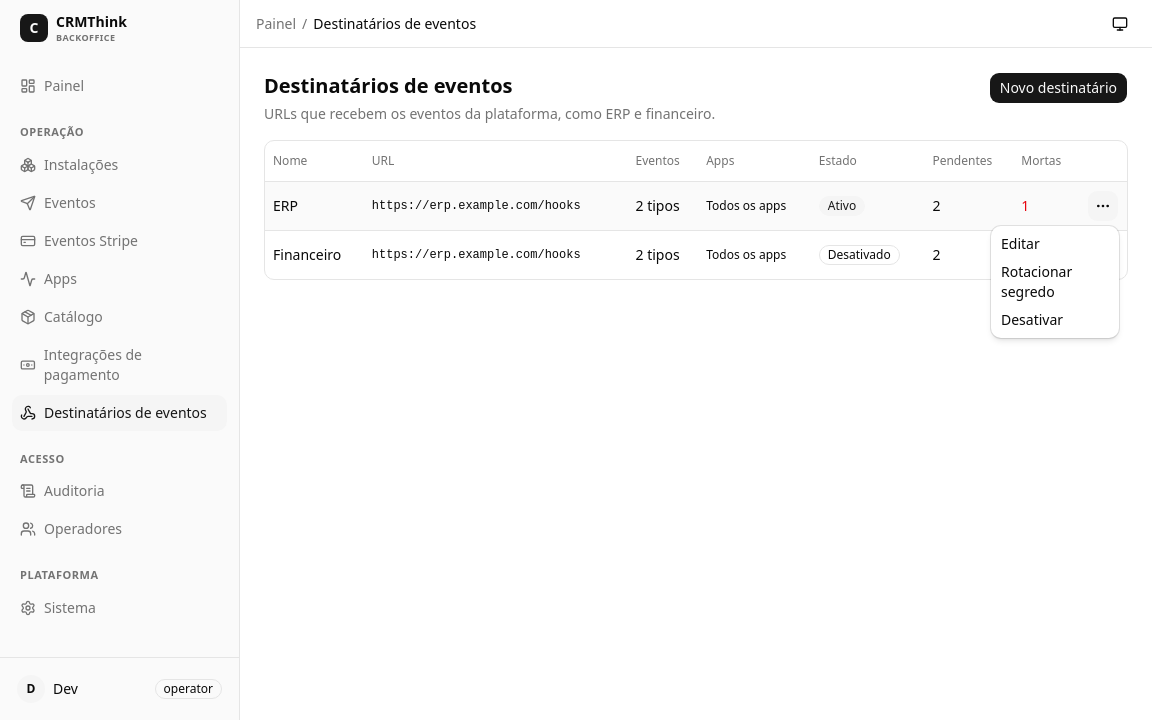
Scenario: tela Destinatários de eventos › desativar exige o motivo; reativar não
Earlier steps of the test are not shown.
Click the menu item "Desativar" at (1032, 320), box [1001,310,1063,329]
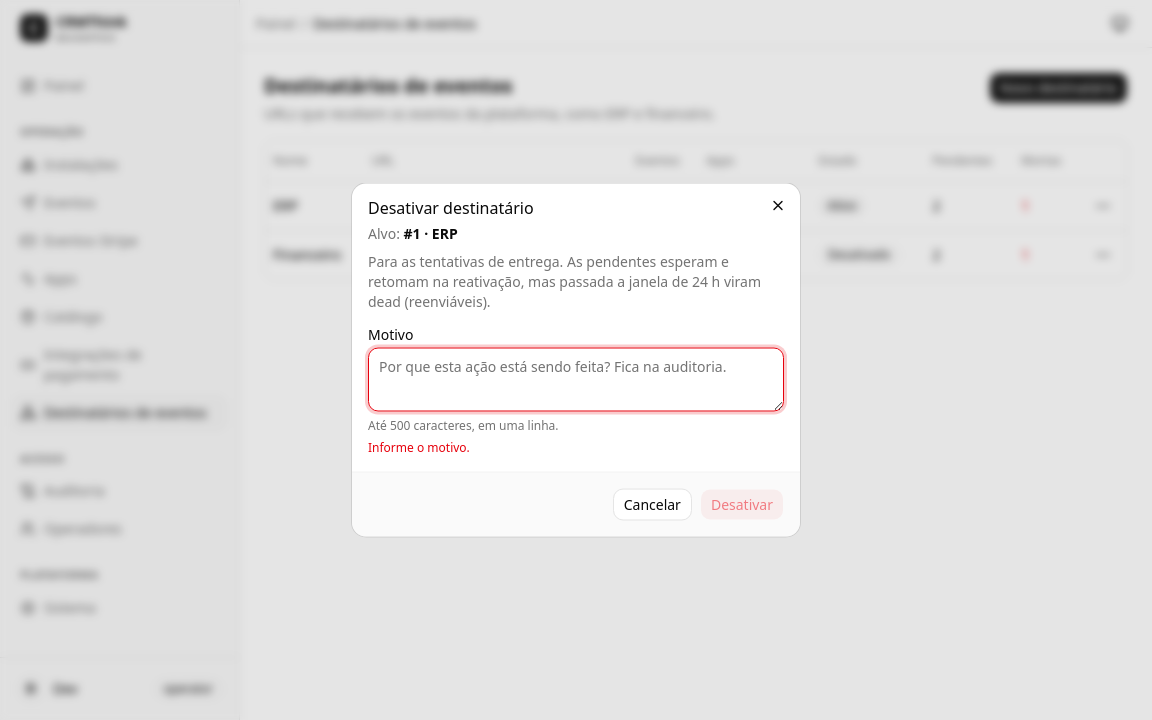
Expected: the button "Desativar" is disabled, [700,488,784,520]
Type "integracao do erp combinada com o financeiro" into the text box labelled "Motivo" at (576, 380), box [368,348,784,412]
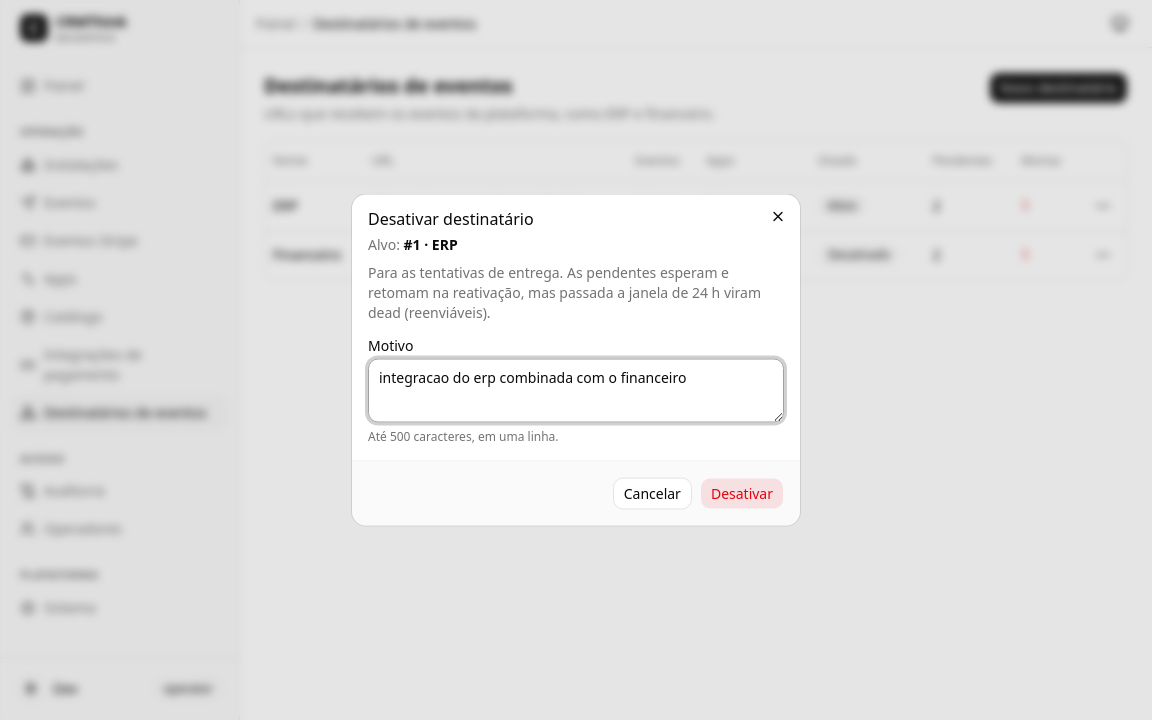
Click the button "Desativar" at (742, 494), box [700,478,784,510]
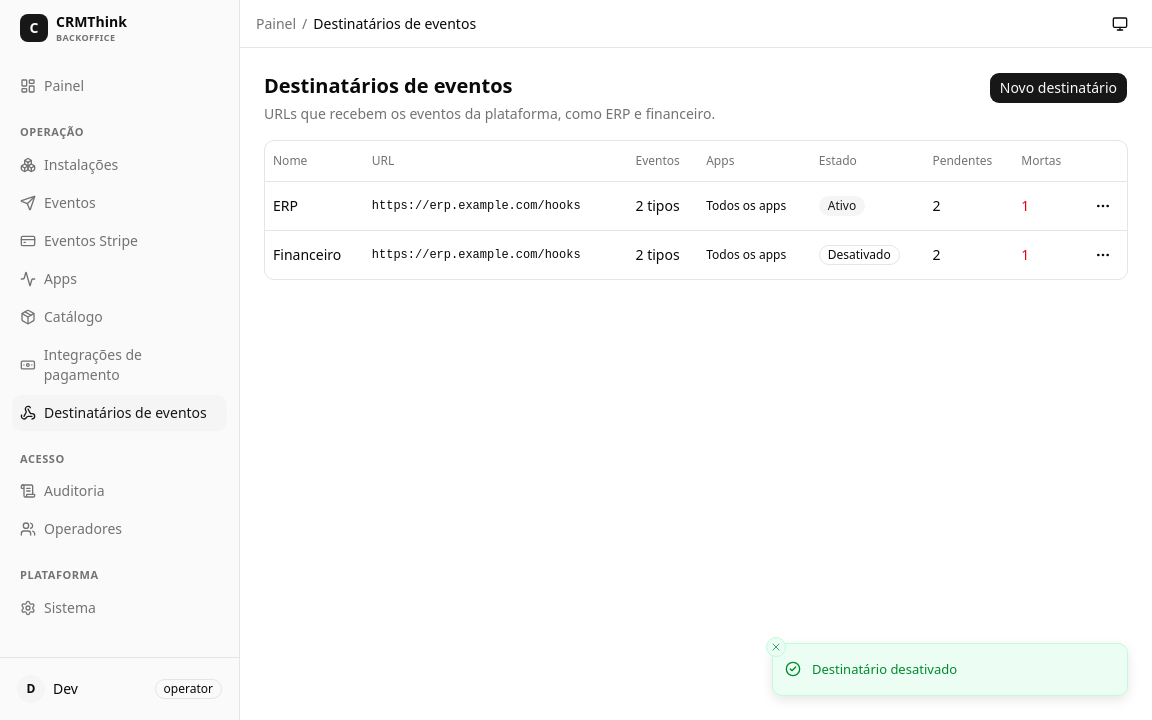
Expected: the text "Destinatário desativado" is shown, [812,660,957,679]
Expected: the dialog is gone
Click the button named "Ações de Financeiro" at (1103, 254), box [1087,238,1119,270]
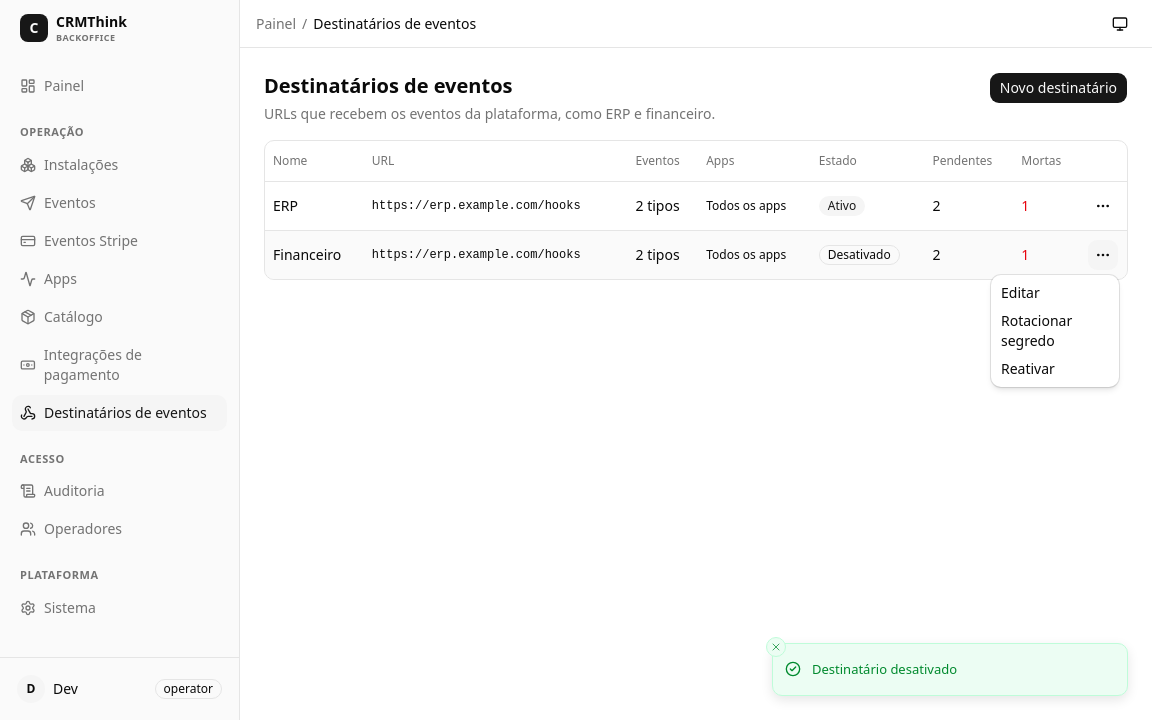
Click the menu item "Reativar" at (1028, 368), box [1001,359,1055,378]
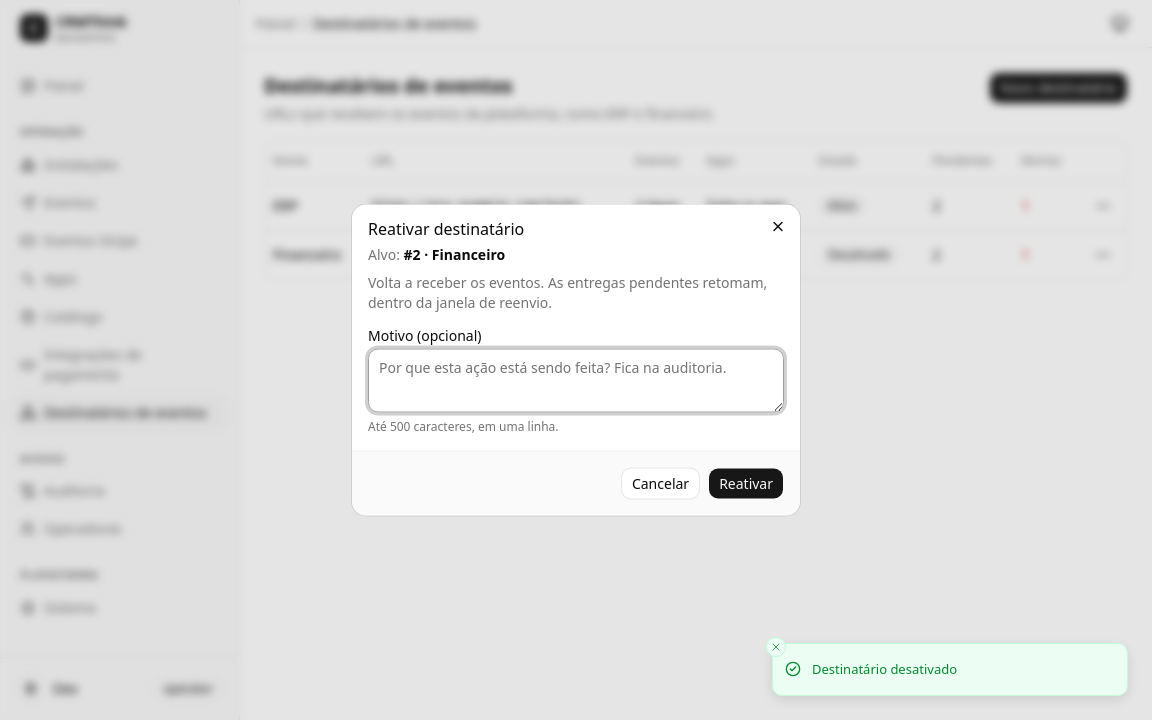
Click the button "Reativar" at (746, 484), box [708,468,784,500]
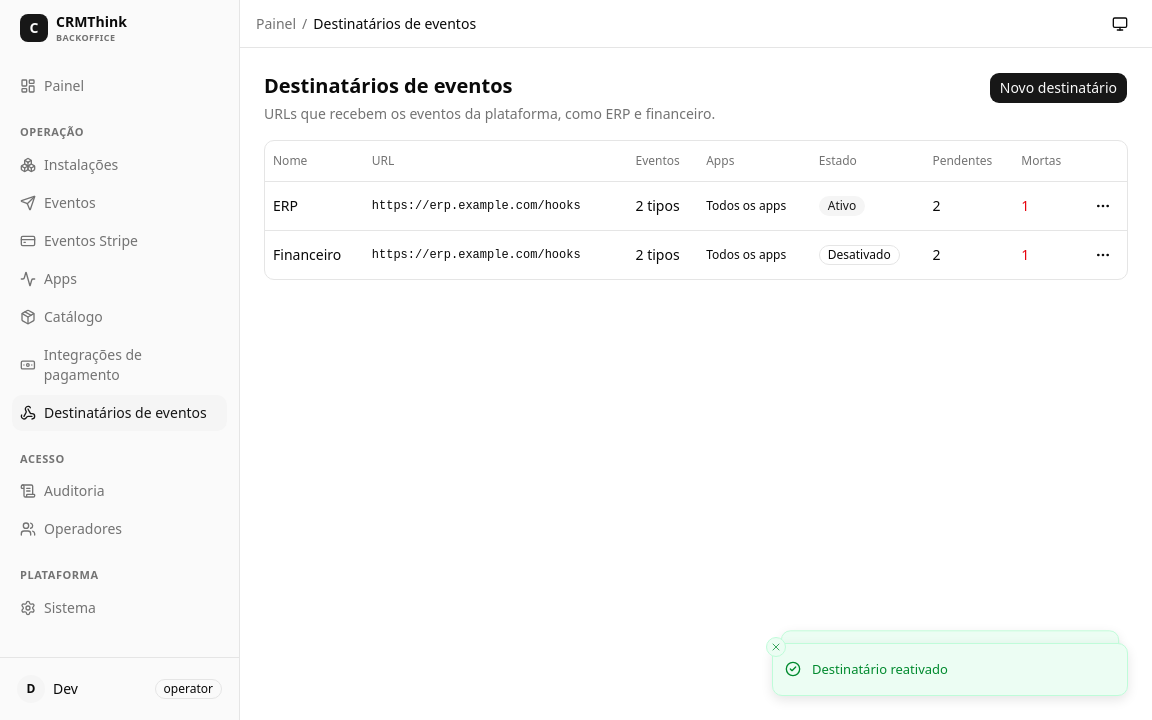
Expected: the text "Destinatário reativado" is shown, [812,660,948,679]
